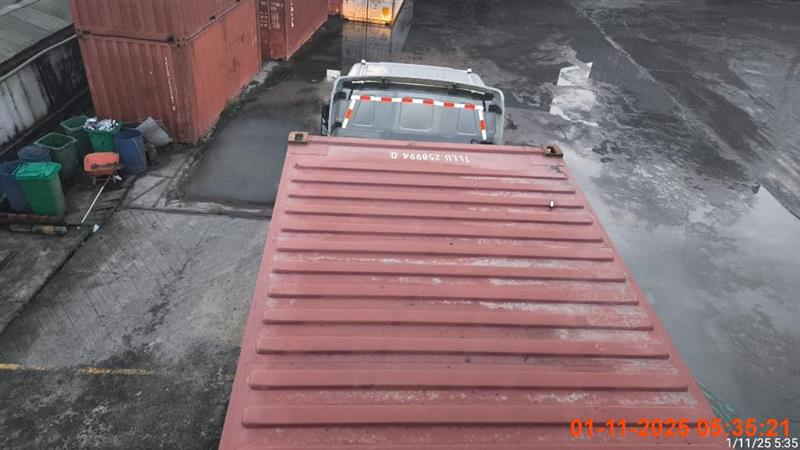broken: (220, 61, 728, 443), (320, 60, 506, 143)
